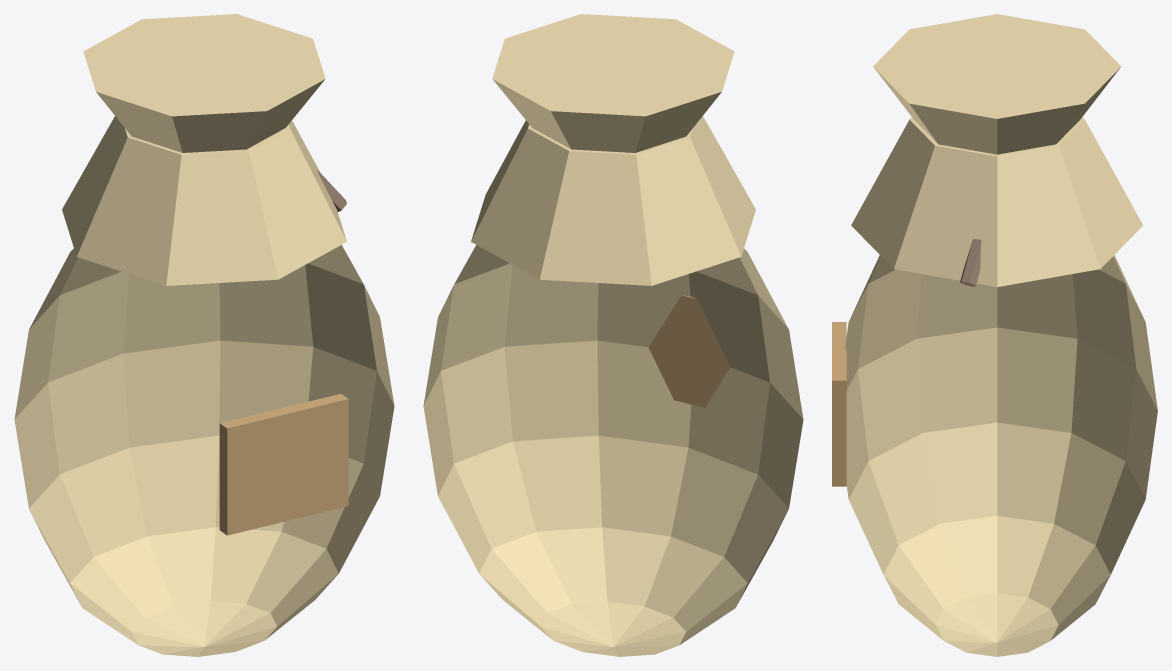
Rendered from harvest-hearth-tied-grain-sack__73.glb.
3 renders of one model, left to right at view 1: azimuth 30°, elevation 25°; view 2: azimuth 150°, elevation 25°; view 3: azimuth 270°, elevation 25°, orthographic.
Visible parts, largest first — view 1: harvest-hearth-grain-sack; view 2: harvest-hearth-grain-sack; view 3: harvest-hearth-grain-sack.
Part boxes in pixels (left/top/right/bottom): harvest-hearth-grain-sack: left=14, top=14, right=394, bottom=656; harvest-hearth-grain-sack: left=423, top=14, right=803, bottom=656; harvest-hearth-grain-sack: left=832, top=14, right=1157, bottom=656.
Bounding box in the file's own units: 0.54 × 0.87 × 0.446.
